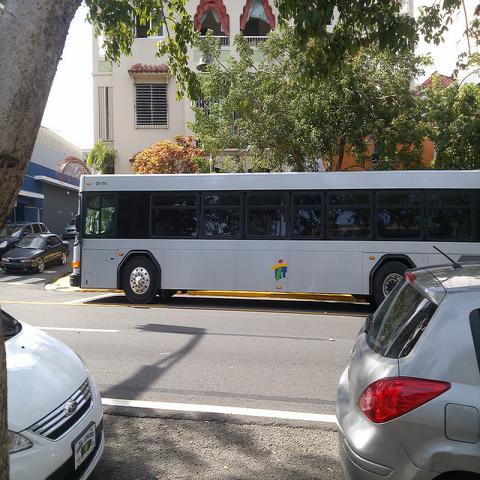bus: (70, 169, 480, 303)
car: (336, 246, 476, 479), (0, 310, 105, 479), (2, 232, 71, 272), (0, 221, 51, 266), (63, 218, 75, 239)
